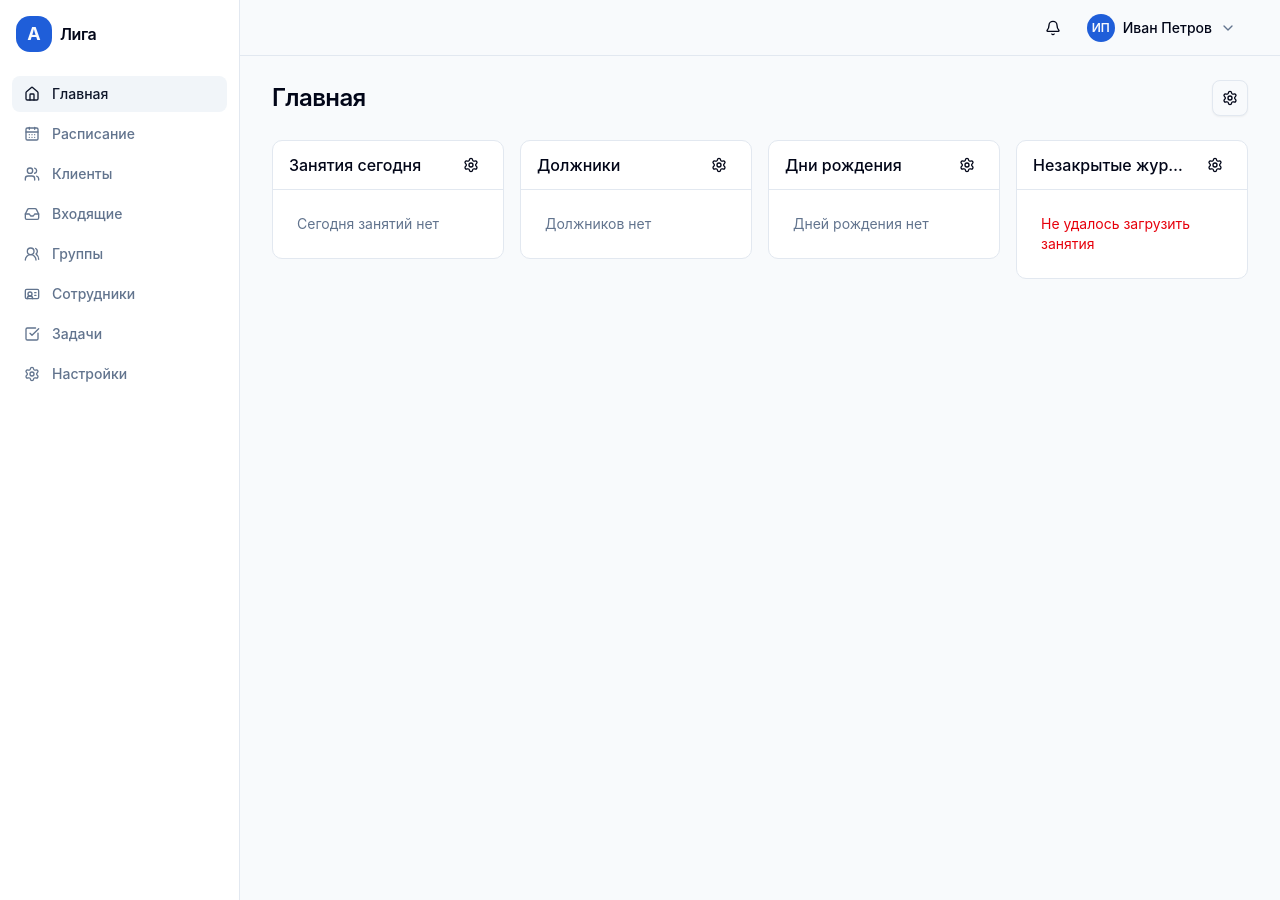
it: индивидуальные настройки виджетов главной › у занятий сегодня доступны название и клавиатурное закрытие панели
Click the button named "Настройки: Занятия сегодня" at (471, 165), box [455,149,487,181]
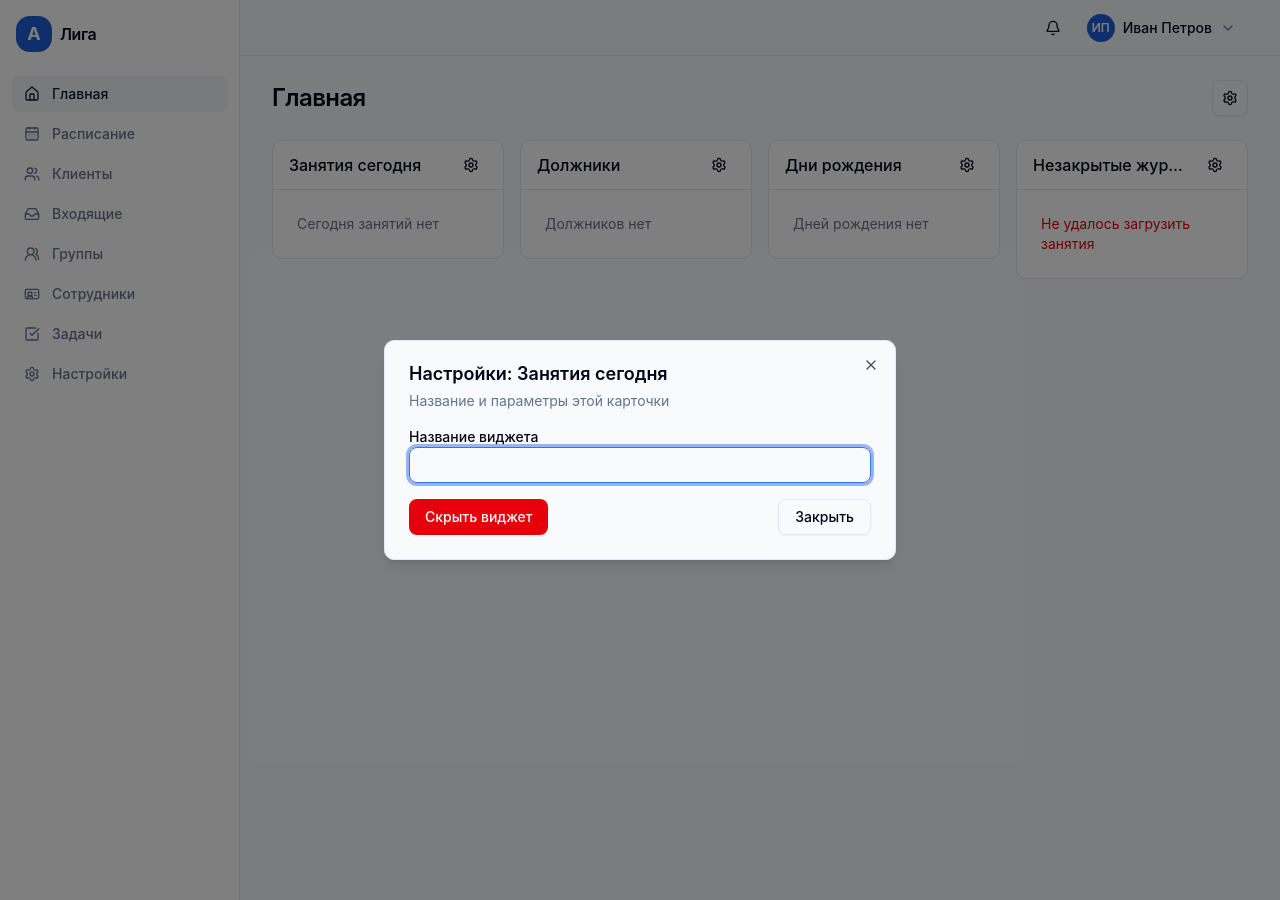
Press Escape
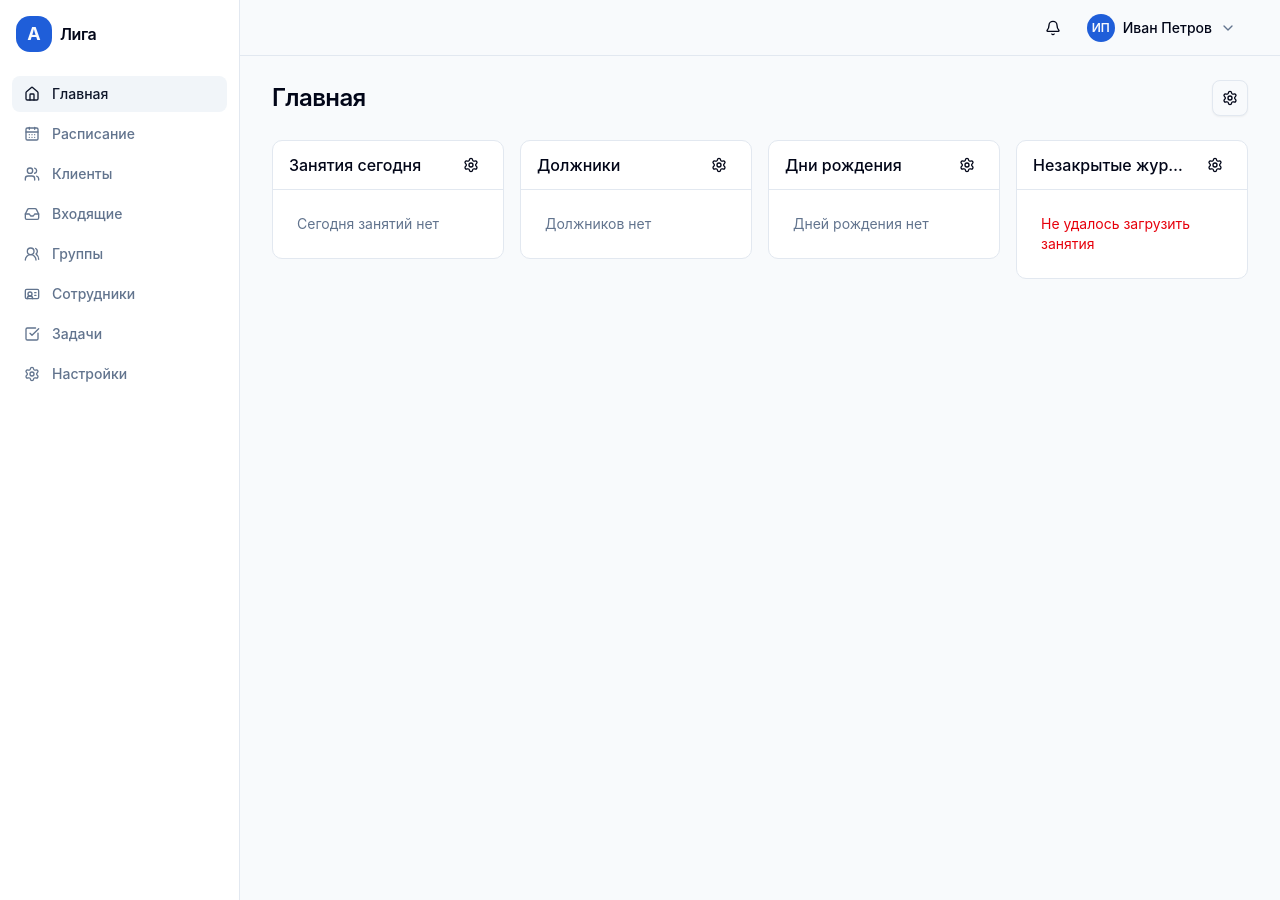
Check: the dialog is gone
